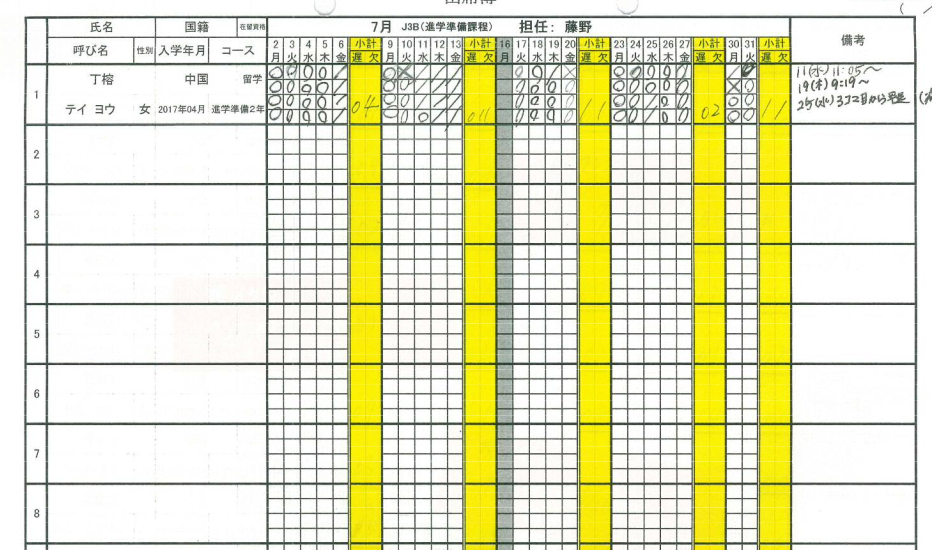/: (430, 62, 448, 80), (446, 63, 463, 80), (430, 94, 447, 111), (642, 93, 660, 109), (332, 108, 348, 125), (414, 93, 430, 110), (446, 80, 463, 96), (333, 63, 348, 81), (430, 110, 448, 125), (725, 63, 741, 79), (642, 108, 659, 123), (447, 109, 462, 125), (414, 64, 429, 79), (430, 79, 445, 94), (414, 79, 431, 92), (333, 80, 348, 94), (333, 95, 348, 109), (447, 95, 462, 109), (545, 64, 560, 78)
o: (528, 64, 545, 81), (675, 109, 693, 125), (299, 109, 316, 125), (627, 63, 643, 80), (659, 78, 675, 95), (610, 79, 628, 94), (511, 95, 530, 109), (511, 110, 530, 124), (298, 64, 314, 80), (316, 109, 332, 125), (611, 64, 627, 80), (643, 79, 659, 95), (266, 94, 283, 109), (267, 110, 284, 125), (282, 93, 299, 108), (299, 79, 316, 94), (316, 64, 333, 79), (381, 108, 398, 123), (545, 110, 562, 125), (511, 79, 529, 93), (742, 108, 756, 126), (267, 64, 283, 79), (283, 63, 298, 79), (284, 78, 300, 93), (283, 110, 299, 125), (398, 110, 414, 125), (398, 95, 413, 111), (561, 93, 576, 109), (659, 95, 675, 110), (413, 111, 430, 125), (528, 95, 545, 109), (611, 95, 628, 109), (643, 64, 660, 78), (513, 65, 528, 80), (627, 93, 642, 108), (382, 79, 398, 93), (398, 79, 414, 93), (529, 79, 545, 93), (545, 80, 561, 94), (676, 79, 692, 93), (742, 64, 756, 80), (266, 80, 283, 93), (611, 110, 628, 123), (660, 110, 677, 123), (724, 110, 741, 123), (316, 80, 331, 94), (531, 109, 546, 123), (545, 94, 560, 108), (561, 79, 576, 93), (562, 111, 577, 125), (660, 64, 675, 78), (726, 95, 740, 110), (299, 95, 315, 108), (316, 95, 332, 108), (627, 80, 643, 93), (676, 95, 692, 108), (382, 65, 396, 79), (628, 108, 642, 122), (742, 80, 755, 95), (742, 95, 757, 108), (382, 95, 396, 107), (677, 64, 689, 78)
x: (397, 63, 414, 80), (561, 64, 577, 80), (727, 80, 742, 93)
